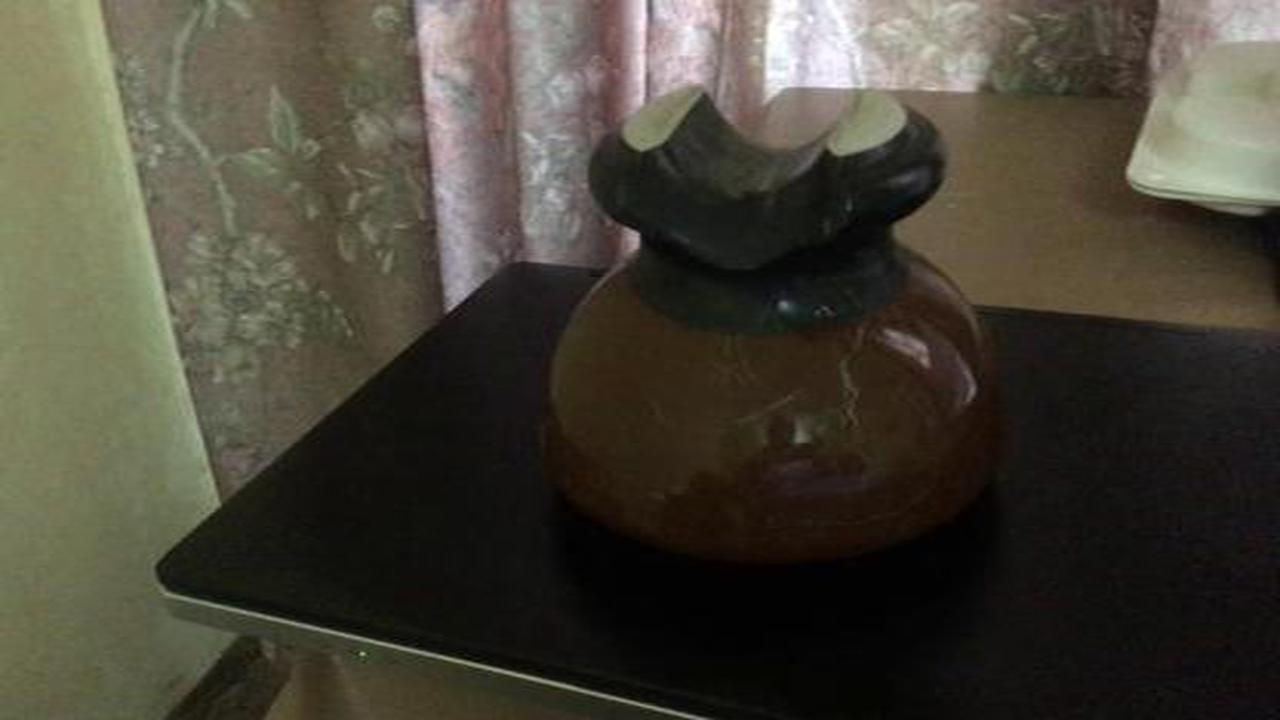insulator_pin: (511, 68, 1037, 591)
